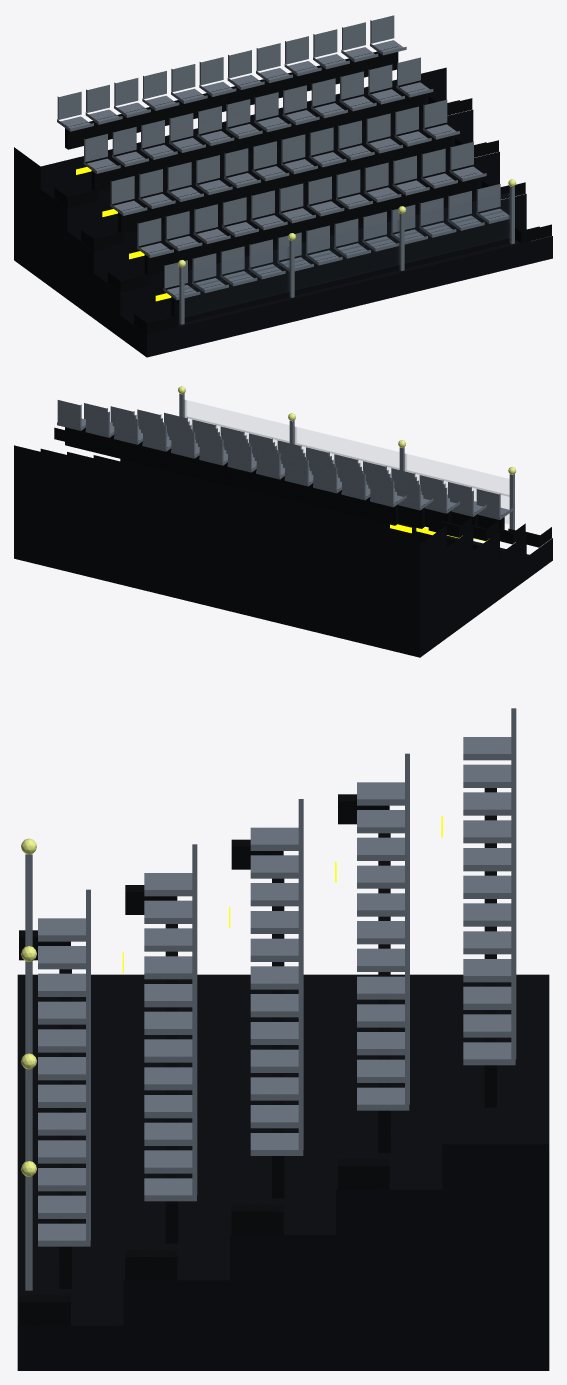
3 views of the same model, one above another, from view 1: azimuth 30°, elevation 25°; view 2: azimuth 150°, elevation 25°; view 3: azimuth 270°, elevation 25° (orthographic). The views are drawn at different scales.
Visible parts, largest first — view 1: Tier_Concrete, Seat_Backs, Seat_Beams, Seat_Pans, Aisle_Steps, Rail_Posts, Guard_Glass; view 2: Tier_Concrete, Seat_Backs, Seat_Beams, Seat_Pans, Aisle_Steps, Guard_Glass, Rail_Posts; view 3: Tier_Concrete, Seat_Pans, Seat_Backs, Aisle_Steps, Seat_Beams, Rail_Posts, Ball_Caps.
Boxes of the visible parts, bbox=[...] form: Tier_Concrete: bbox=[14, 67, 552, 357]; Seat_Backs: bbox=[57, 15, 500, 288]; Seat_Beams: bbox=[65, 46, 504, 317]; Seat_Pans: bbox=[57, 40, 509, 300]; Aisle_Steps: bbox=[54, 96, 551, 334]; Rail_Posts: bbox=[179, 186, 514, 324]; Guard_Glass: bbox=[185, 193, 510, 291]; Tier_Concrete: bbox=[14, 445, 552, 657]; Seat_Backs: bbox=[57, 400, 500, 517]; Seat_Beams: bbox=[65, 427, 504, 529]; Seat_Pans: bbox=[57, 418, 512, 519]; Aisle_Steps: bbox=[54, 427, 551, 547]; Guard_Glass: bbox=[183, 400, 509, 496]; Rail_Posts: bbox=[179, 393, 514, 529]; Tier_Concrete: bbox=[17, 974, 549, 1370]; Seat_Pans: bbox=[38, 737, 515, 1246]; Seat_Backs: bbox=[86, 708, 516, 1240]; Aisle_Steps: bbox=[19, 794, 389, 1325]; Seat_Beams: bbox=[59, 788, 496, 1288]; Rail_Posts: bbox=[25, 854, 32, 1290]; Ball_Caps: bbox=[21, 838, 36, 1176].
Bounding box in the file's own units: 7.5 × 2.85 × 4.25.
6 materials, 4 textured.
